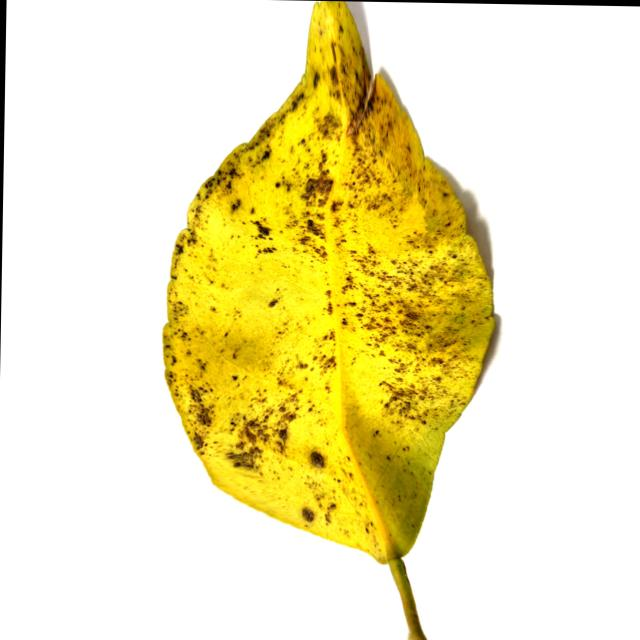melanose: (163, 2, 494, 640)
